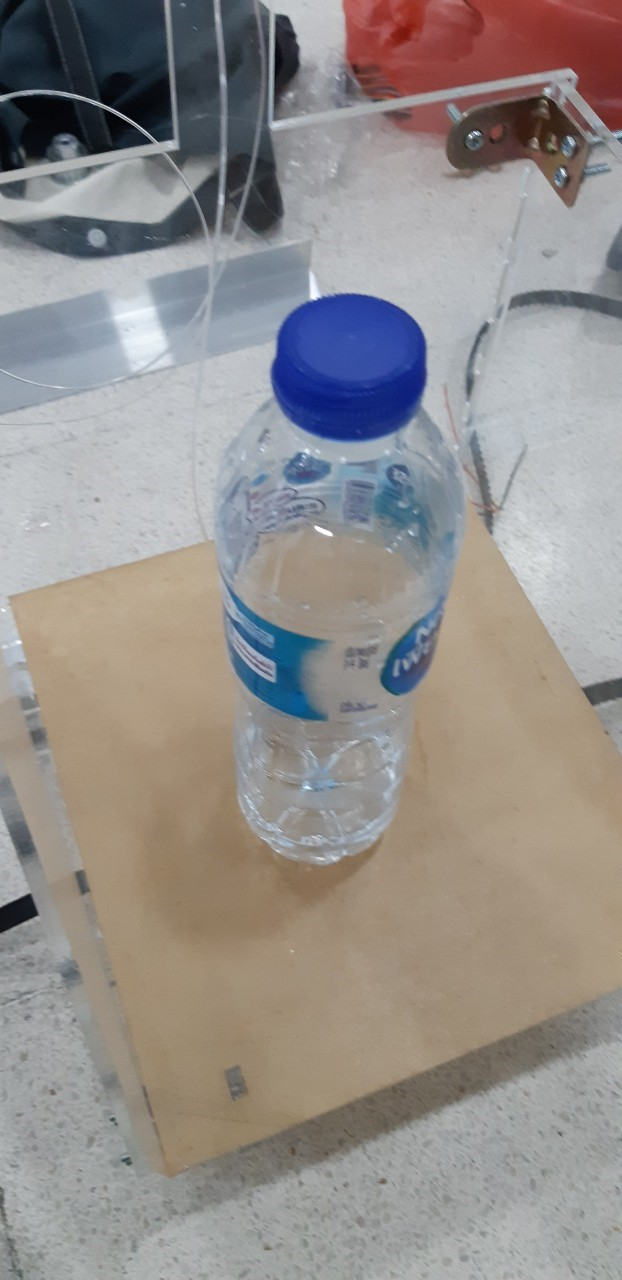PlasticBottle: (221, 294, 453, 865)
